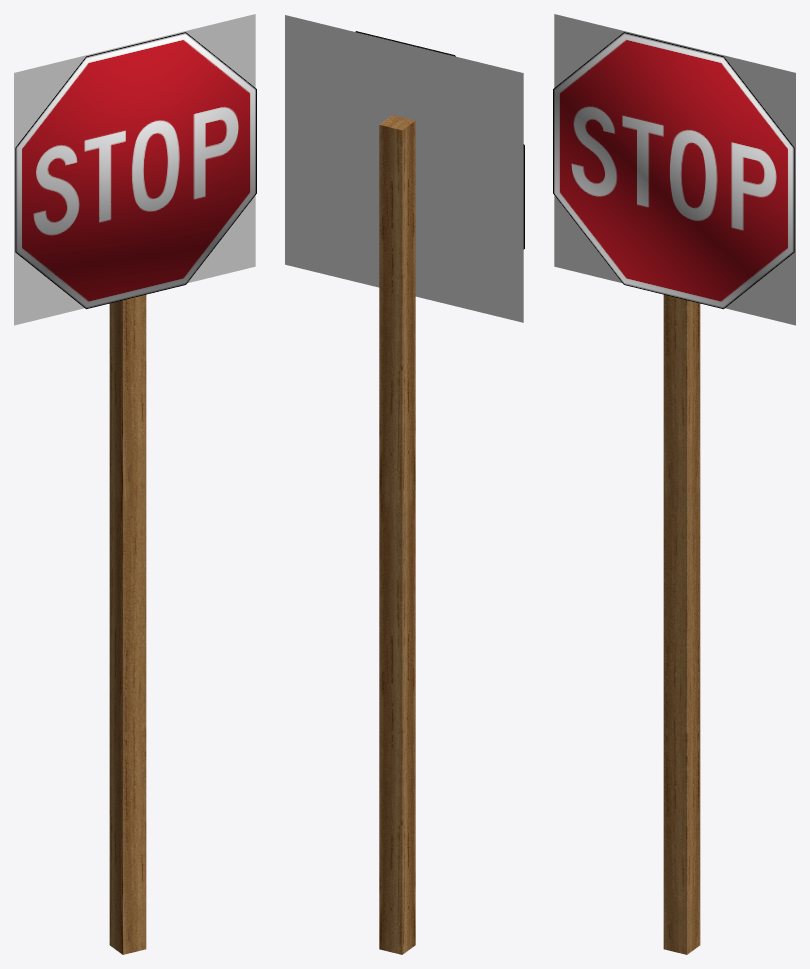
Rendered from StopSign.fbx.
The picture shows the model from 3 angles, left to right: view 1: azimuth 30°, elevation 25°; view 2: azimuth 150°, elevation 25°; view 3: azimuth 330°, elevation 25°; orthographic projection.
Parts seen in each view (by area): view 1: StopSign, StopSign.002; view 2: StopSign.002, StopSign; view 3: StopSign, StopSign.002.
Boxes of the visible parts, <box> form: StopSign: <box>15,32,256,954</box>; StopSign.002: <box>14,14,255,325</box>; StopSign.002: <box>285,15,523,322</box>; StopSign: <box>355,31,524,954</box>; StopSign: <box>553,32,794,954</box>; StopSign.002: <box>554,14,795,325</box>.
Bounding box in the file's own units: 100 × 360 × 10.75.
Materials: 3 (2 with a texture image).
